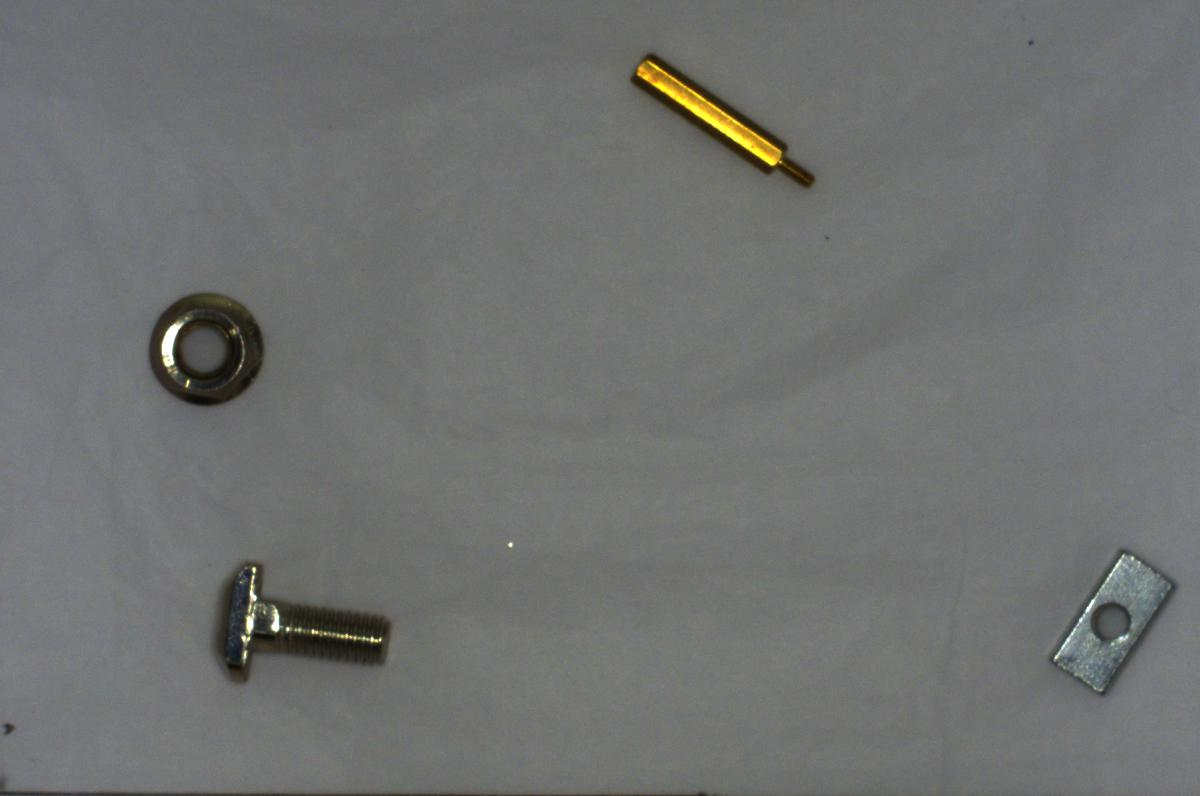Flange nut: (139, 285, 277, 419)
Hexagon pillar: (625, 53, 818, 192)
Rectangular nut: (1057, 538, 1186, 695)
T-shaped screw: (205, 553, 395, 692)
